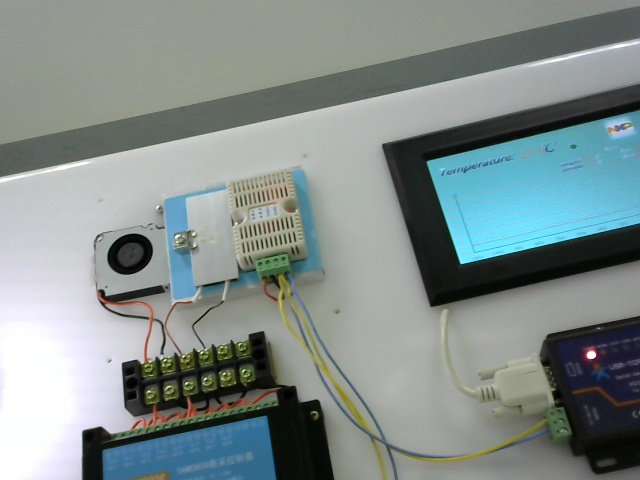fan: (85, 220, 172, 308)
termperature: (233, 177, 311, 276)
